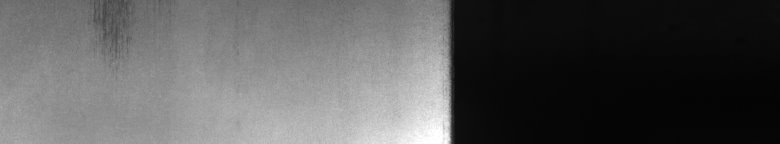ka: (88, 4, 131, 52)
